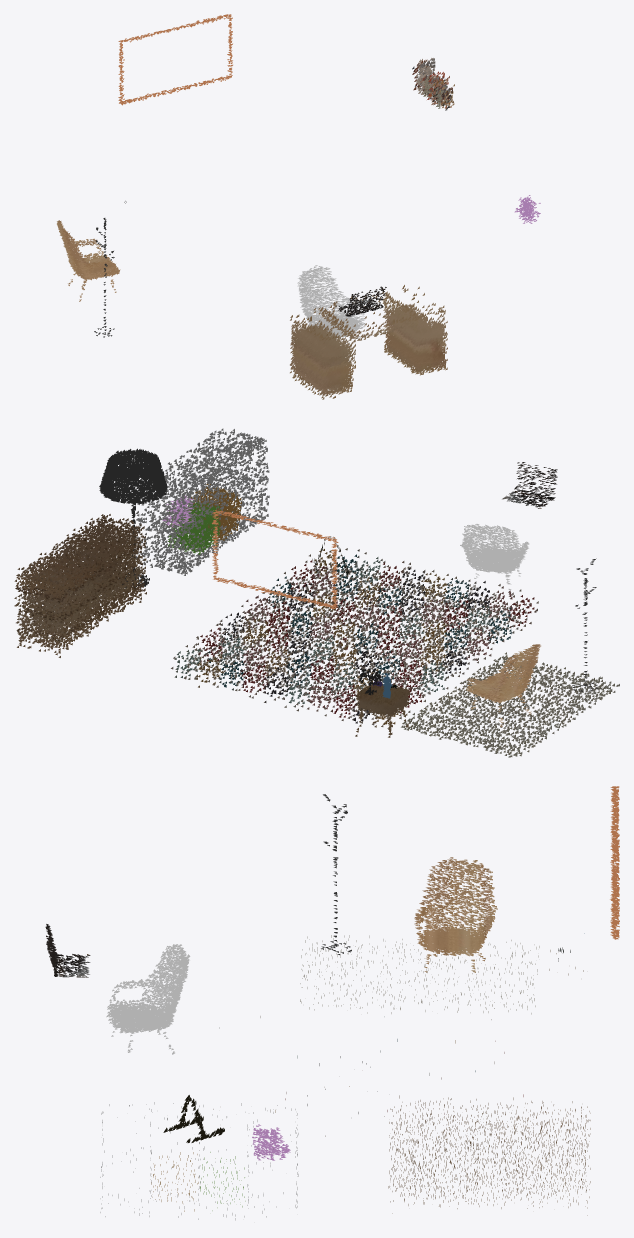
The model's file is souvenirtest2.glb.
3 views of the same model, one above another, from view 1: azimuth 30°, elevation 25°; view 2: azimuth 150°, elevation 25°; view 3: azimuth 270°, elevation 25° (orthographic). The views are drawn at different scales.
Parts seen in each view (by area): view 1: proccessor; view 2: proccessor; view 3: proccessor.
Part boxes in pixels (left/top/right/bottom): proccessor: left=57, top=14, right=540, bottom=399; proccessor: left=14, top=428, right=619, bottom=757; proccessor: left=45, top=786, right=619, bottom=1220.
Bounding box in the file's own units: 5.75 × 2.33 × 5.02.
